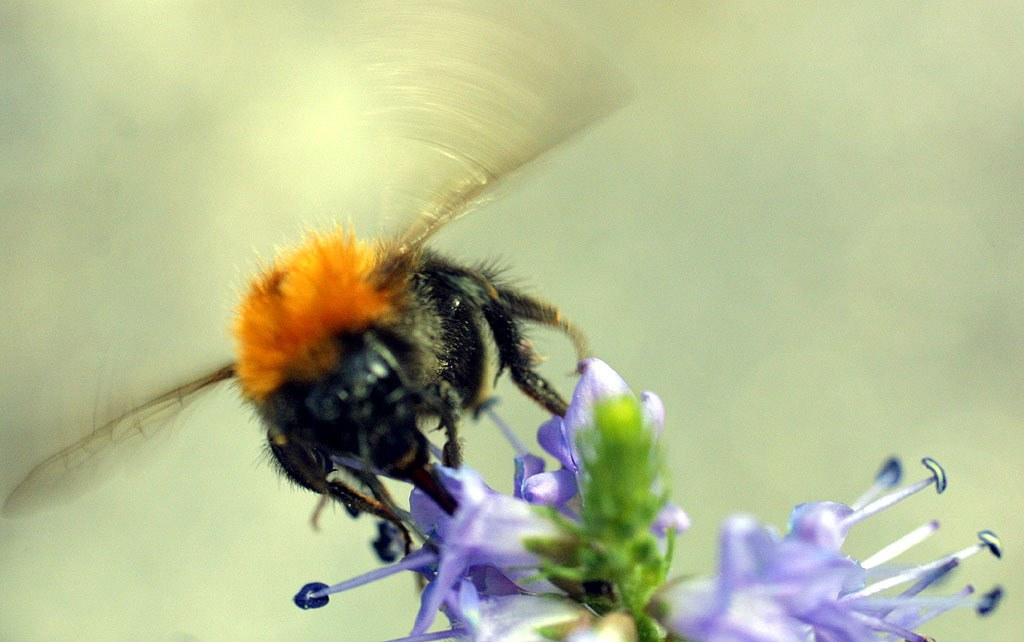bee: (0, 56, 635, 554)
